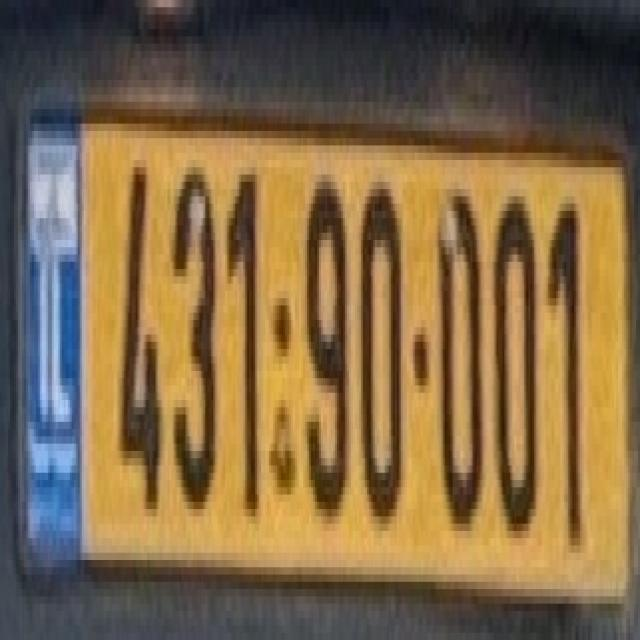0: (353, 152, 403, 524), (484, 182, 532, 524)
1: (219, 146, 265, 516), (538, 182, 586, 531)
3: (158, 138, 220, 524)
4: (96, 138, 160, 524)
9: (287, 138, 351, 531)
U: (428, 152, 478, 538)
